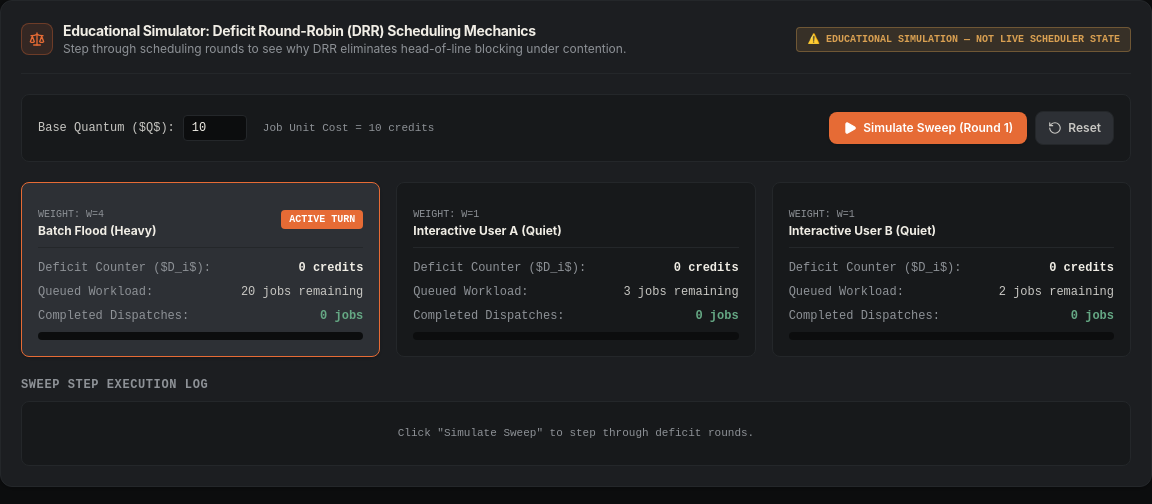
Test: DrrSimulator › steps through DRR sweep and updates round counter
The image size is (1152, 504).
Click the button "Simulate Sweep (Round 1)": point(928, 128) [829, 112, 1027, 144]
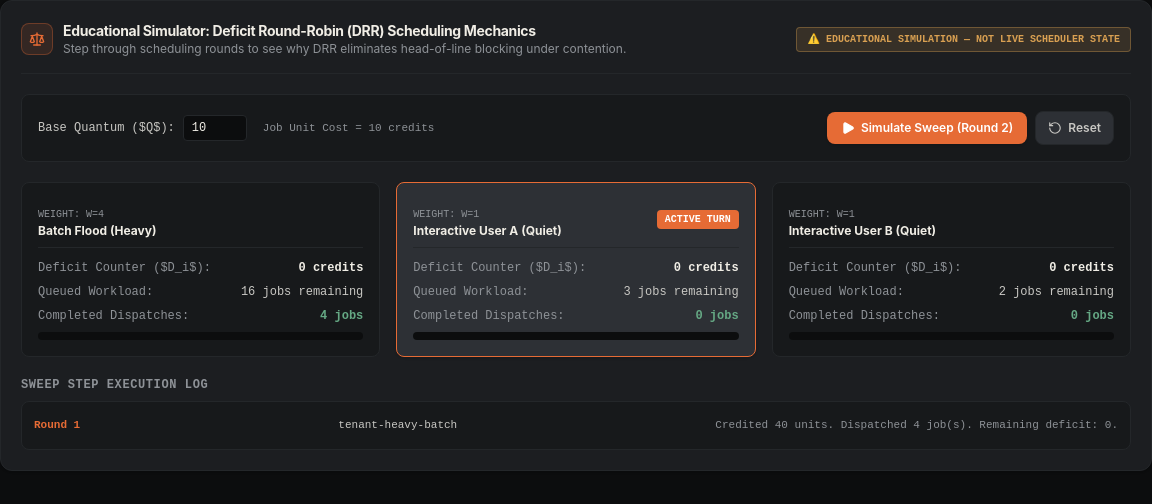
Result: the button "Simulate Sweep (Round 2)" is shown at [827, 112, 1027, 144]
